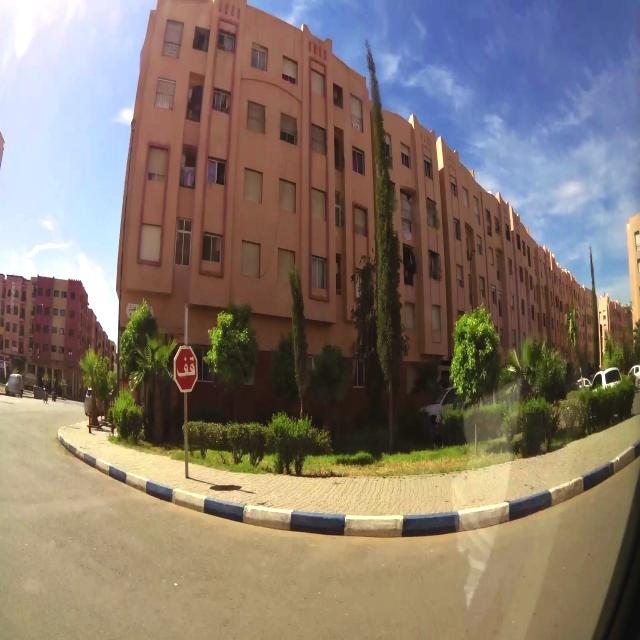car: (590, 367, 622, 389), (5, 372, 24, 397), (573, 376, 591, 392), (629, 364, 640, 379)
